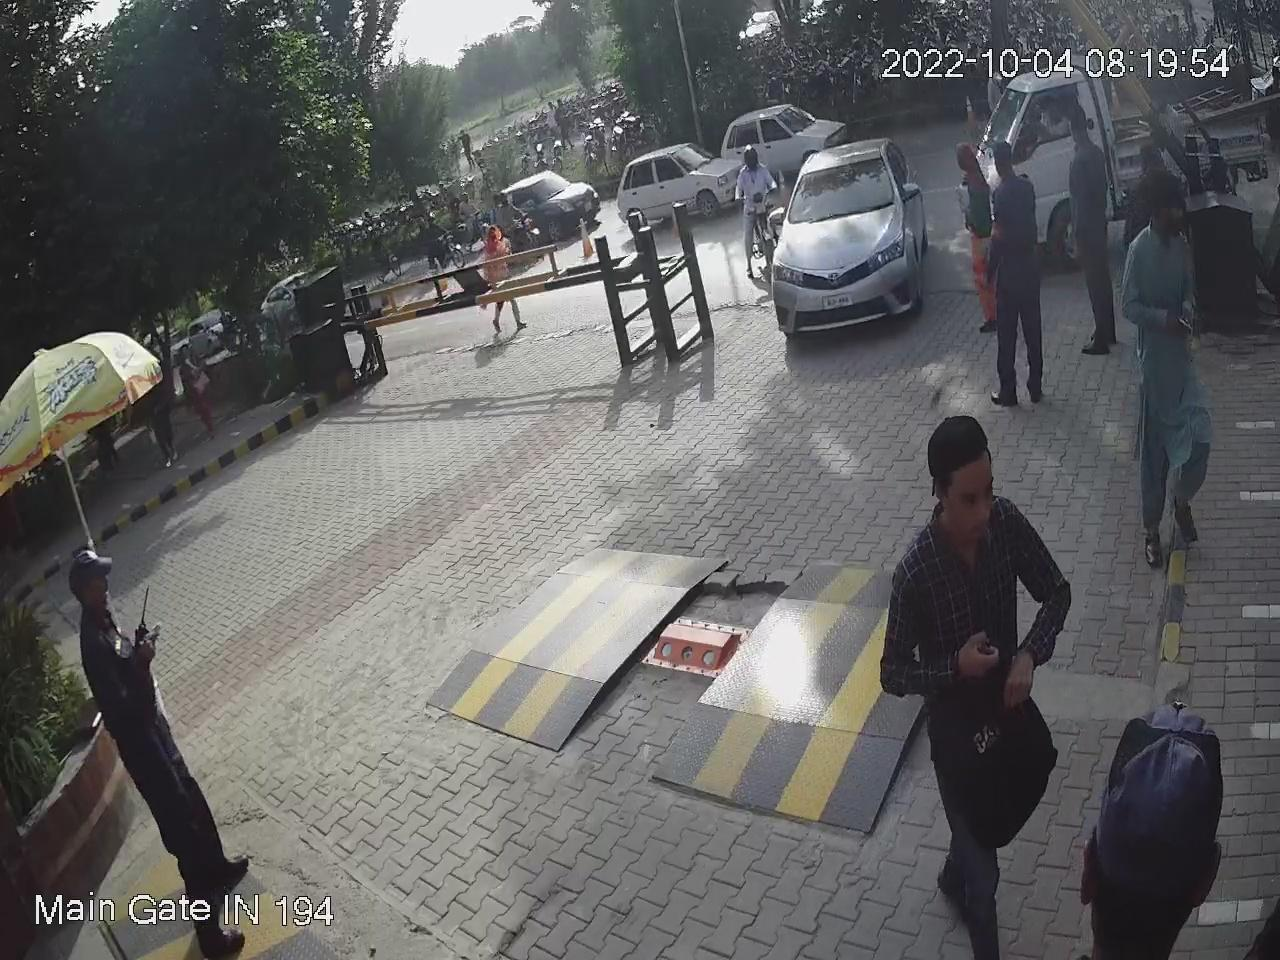windshield: (793, 140, 905, 220)
